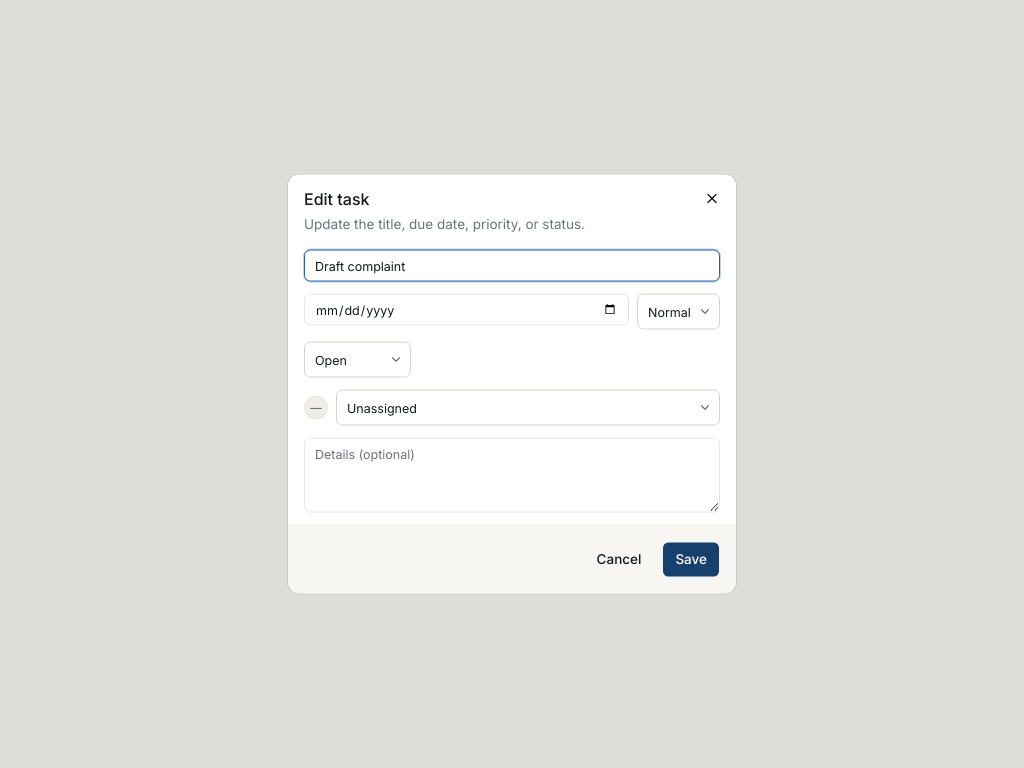
Test: EditTaskDialog — validation errors › stays open and shows the field error when validation fails
Click the button "Save" at (691, 560), box x1=662 y1=542 x2=720 y2=578
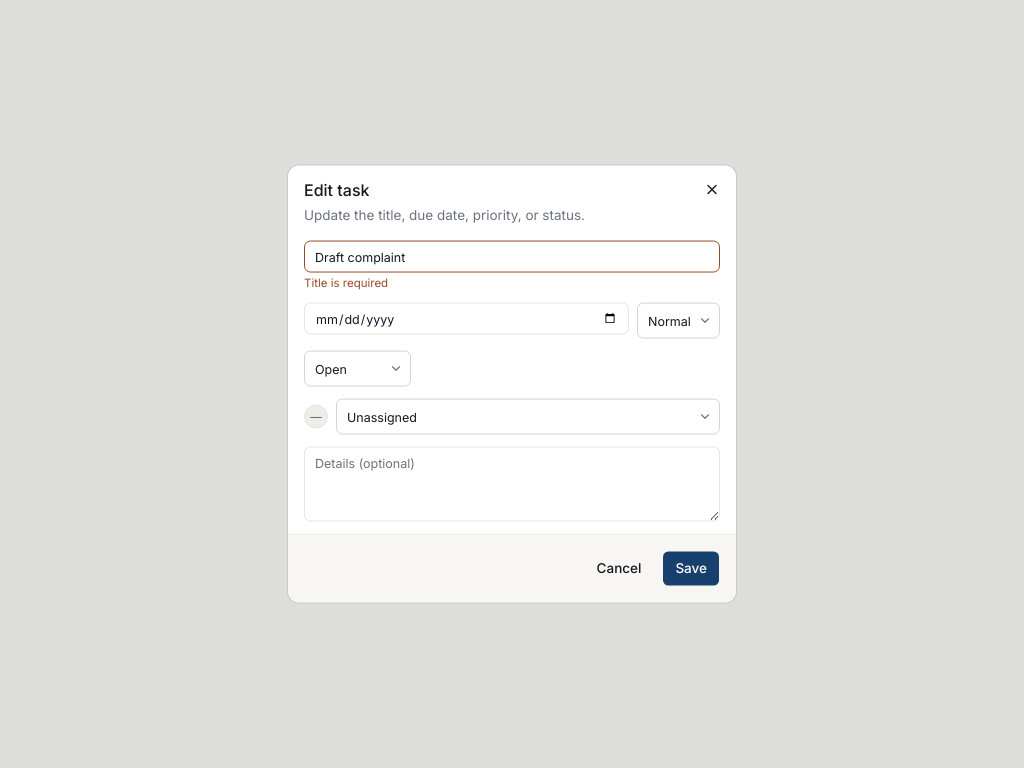
expect the text "Title is required" is shown: met, box x1=304 y1=276 x2=388 y2=290
